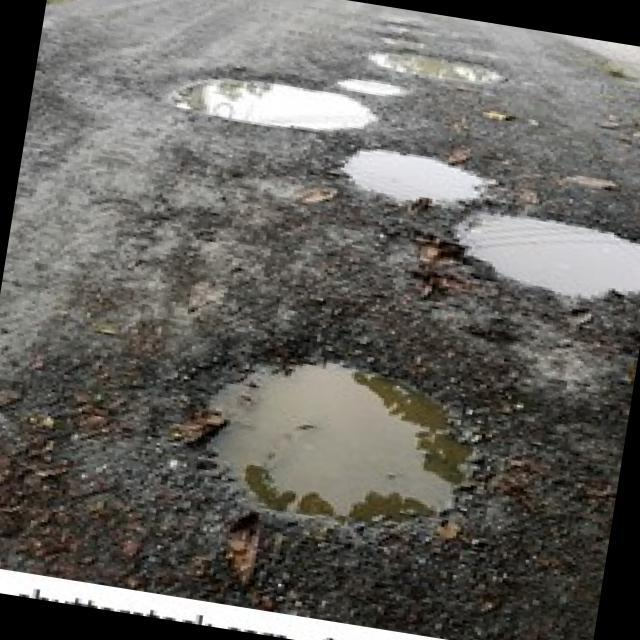Pothole: (156, 311, 524, 564), (443, 198, 640, 313), (148, 58, 386, 149), (336, 136, 498, 218), (360, 40, 514, 92), (333, 67, 412, 105), (370, 29, 428, 52)
